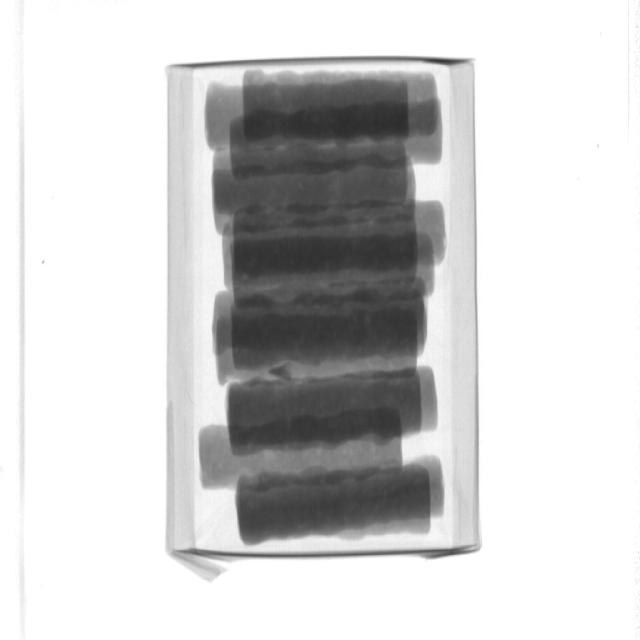ym: (269, 364, 294, 383)
